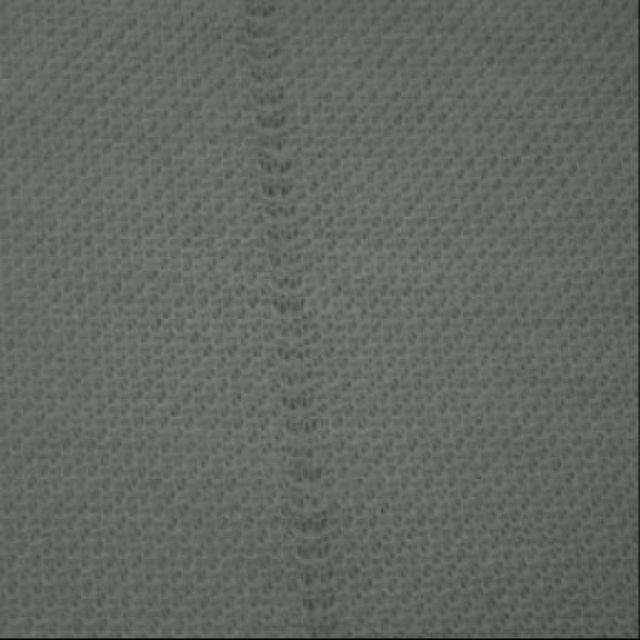Line: (241, 0, 336, 635)
